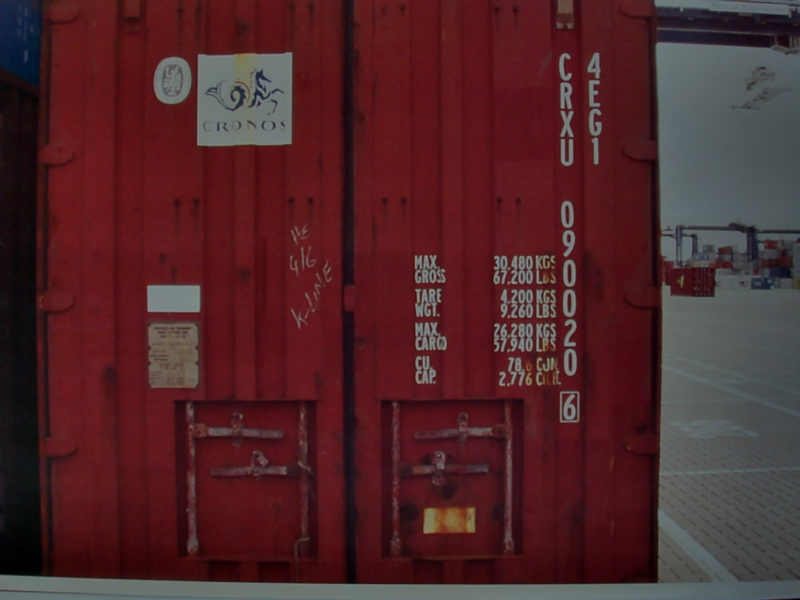container_door: (36, 5, 664, 584)
